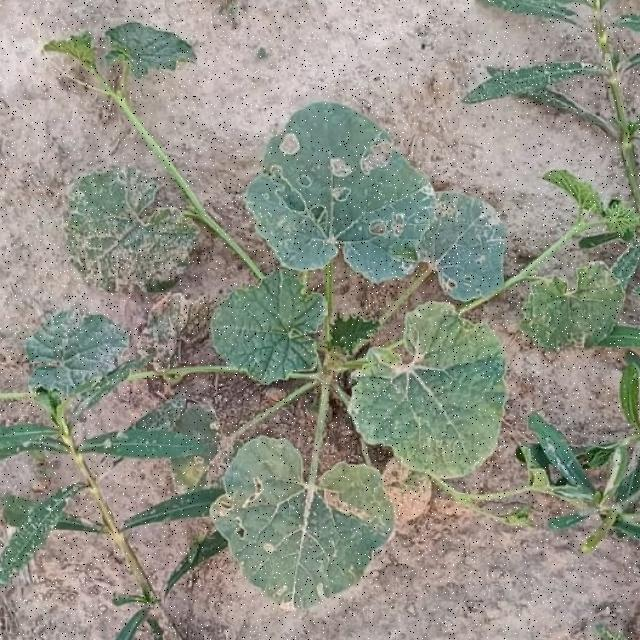plant: (1, 35, 506, 640), (66, 169, 197, 286)
